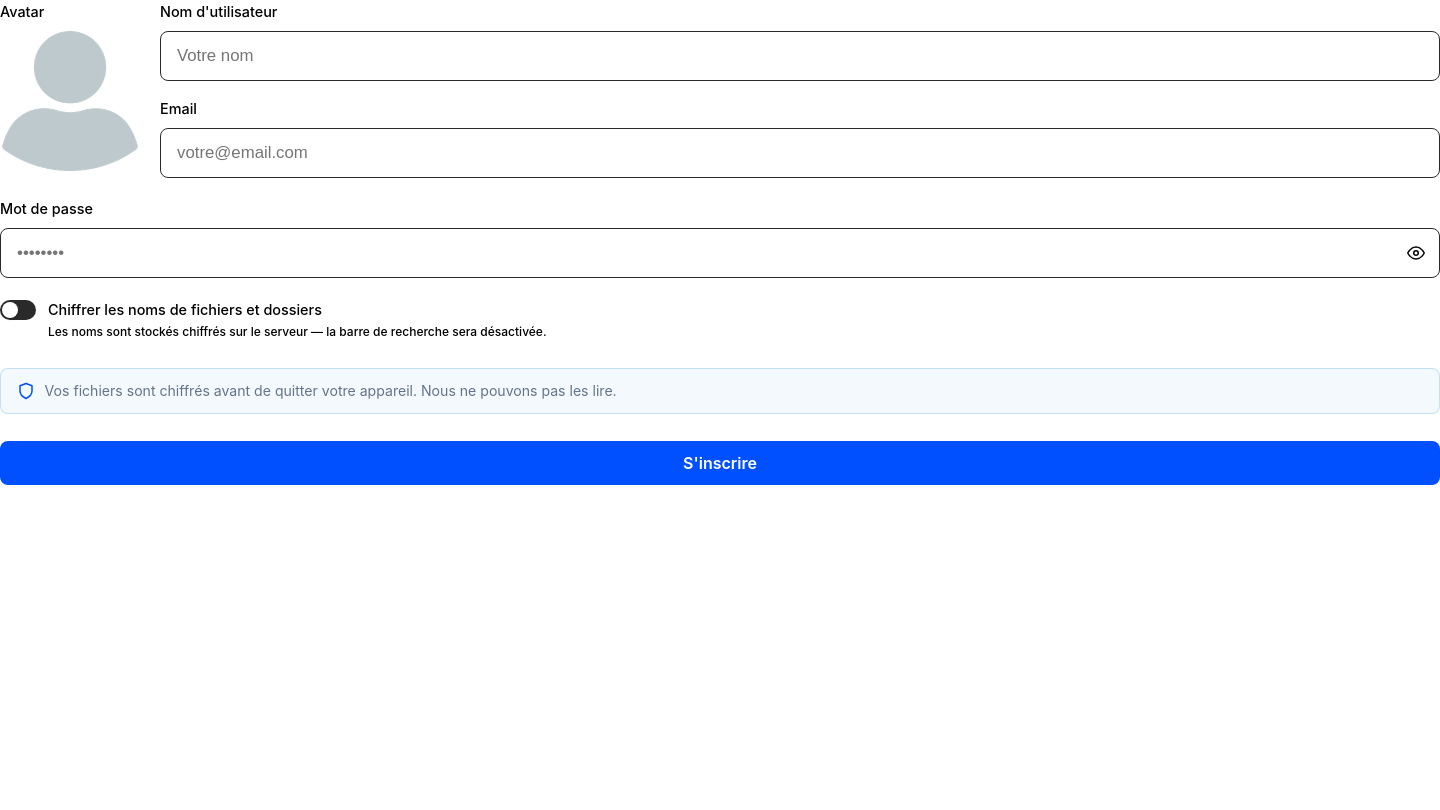
Test: registerComponent — recovery code display › checkbox with correct id and label exists
This screenshot has width=1440, height=810.
Type "TestUser" into the field with placeholder "Votre nom" at (800, 56), box [160,31,1439,81]
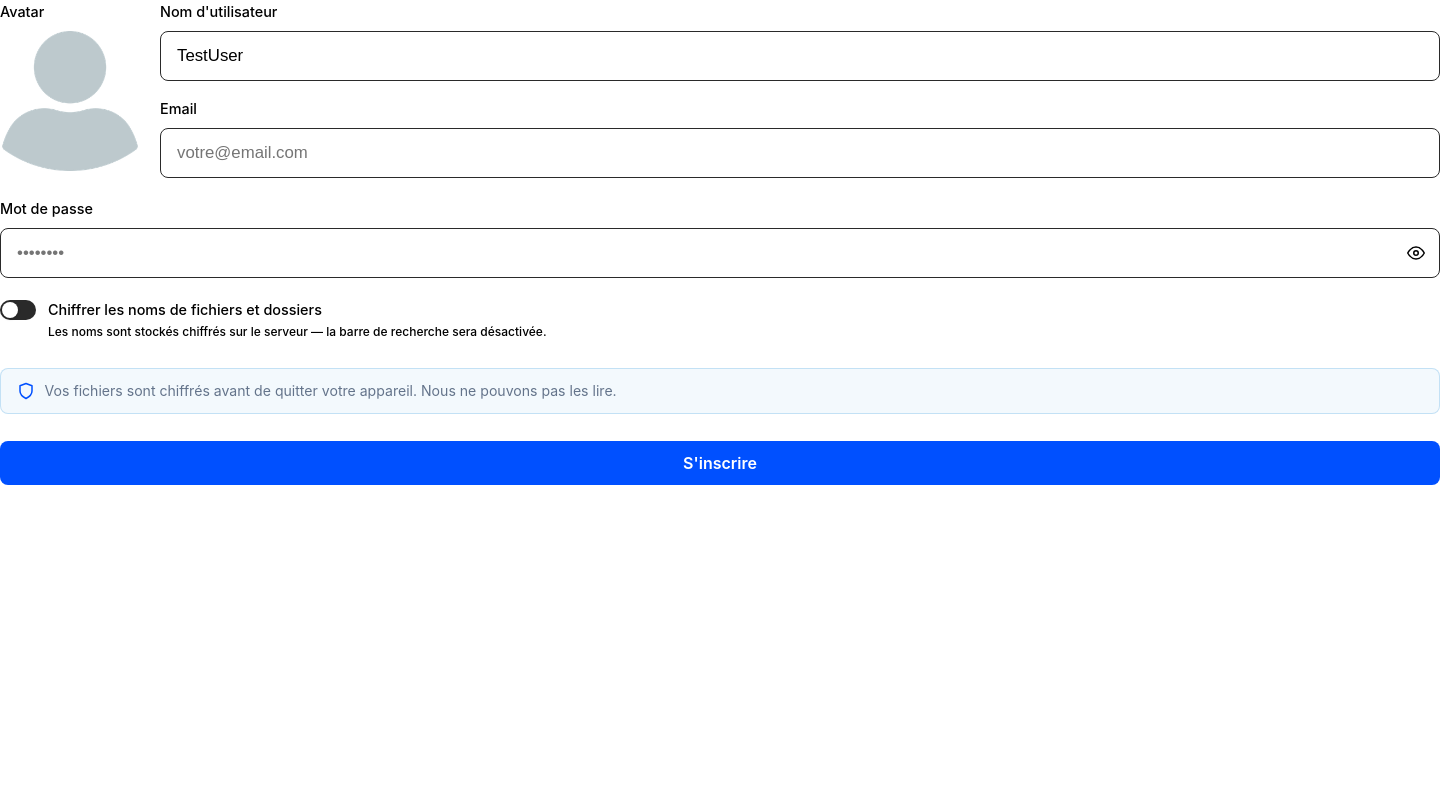
Type "user@example.com" into the field with placeholder "votre@email.com" at (800, 153), box [160,128,1439,178]
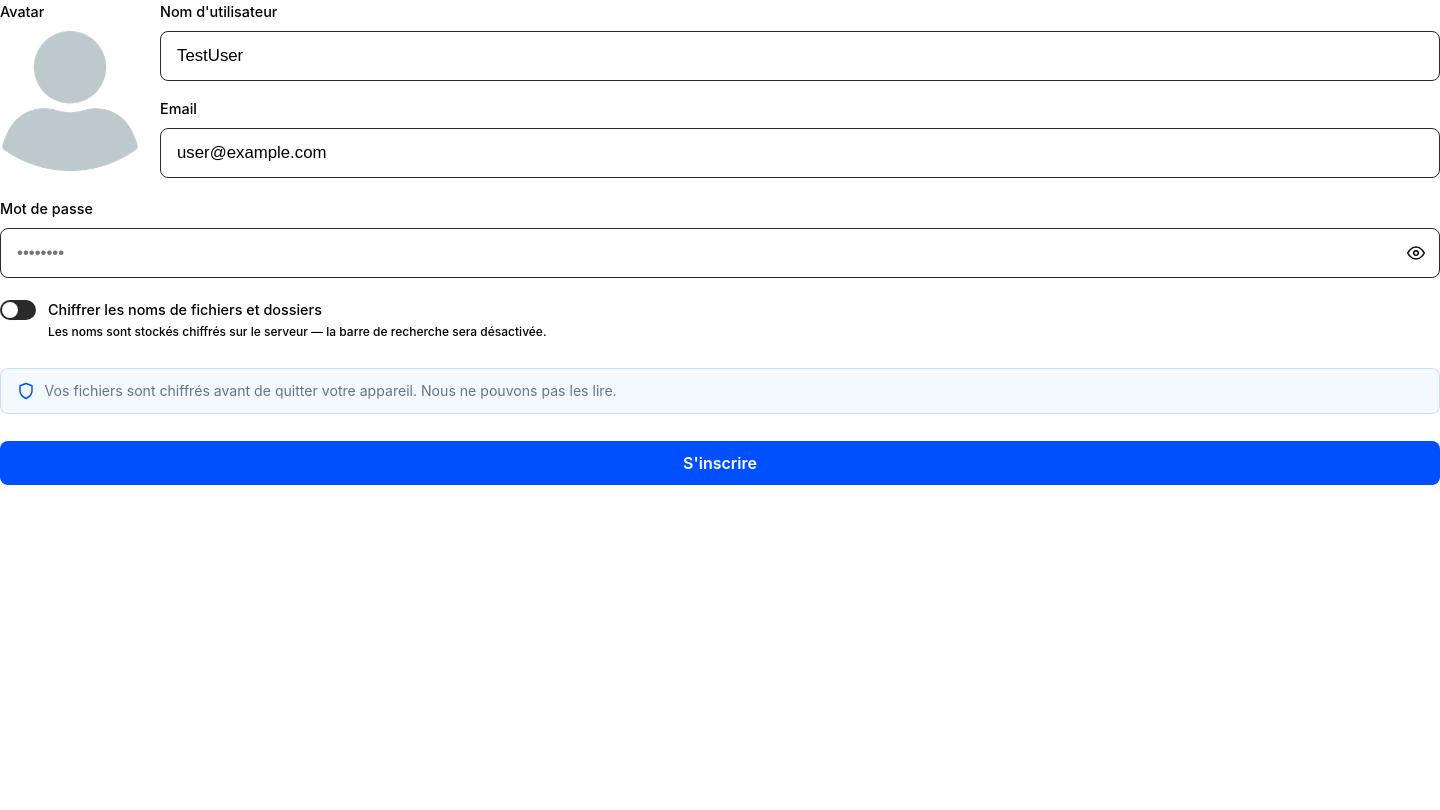
Type "Abcdefghijklmnopqrst1!" into the password field with placeholder "••••••••" at (720, 253), box [0,228,1439,278]
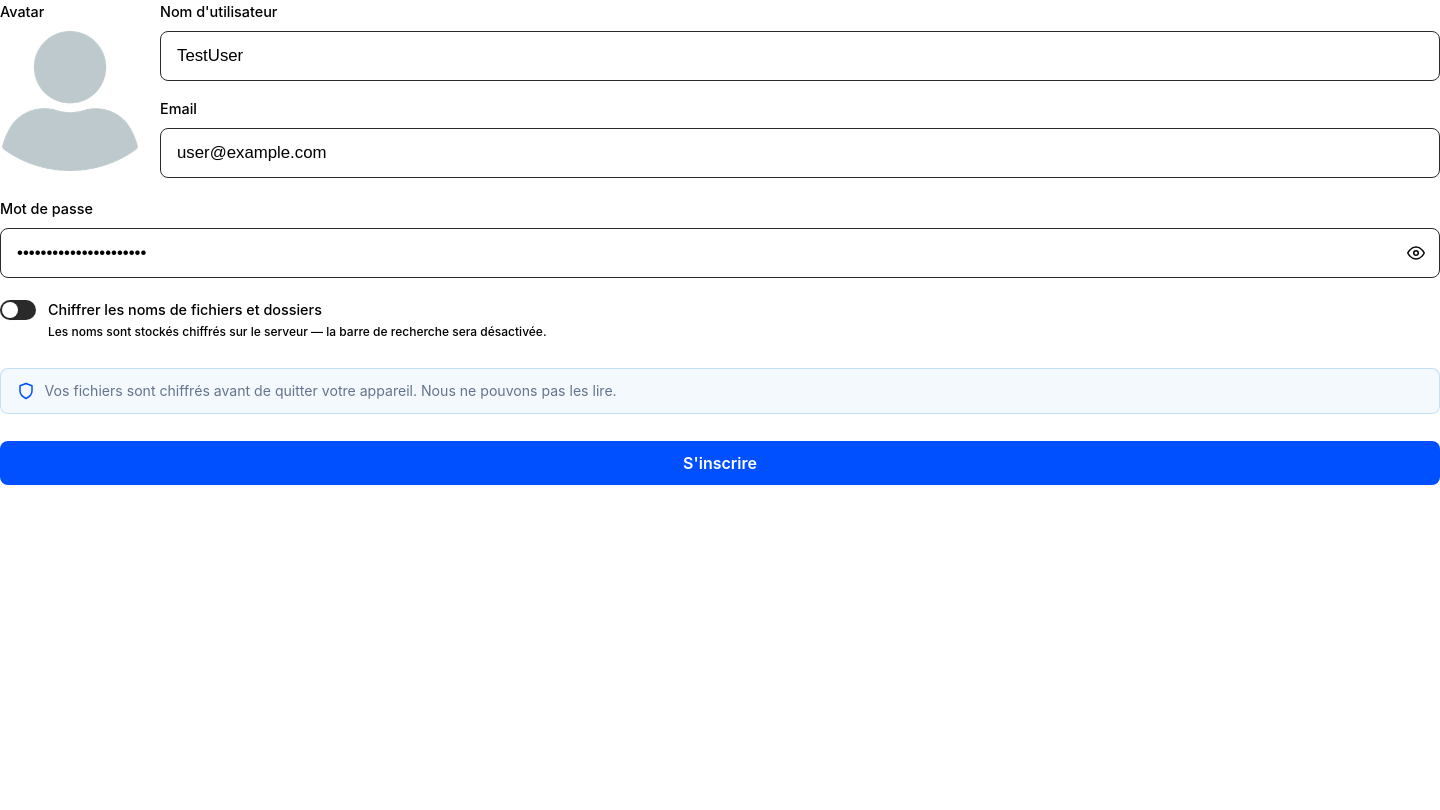
Submit the form, box [0,0,1439,485]
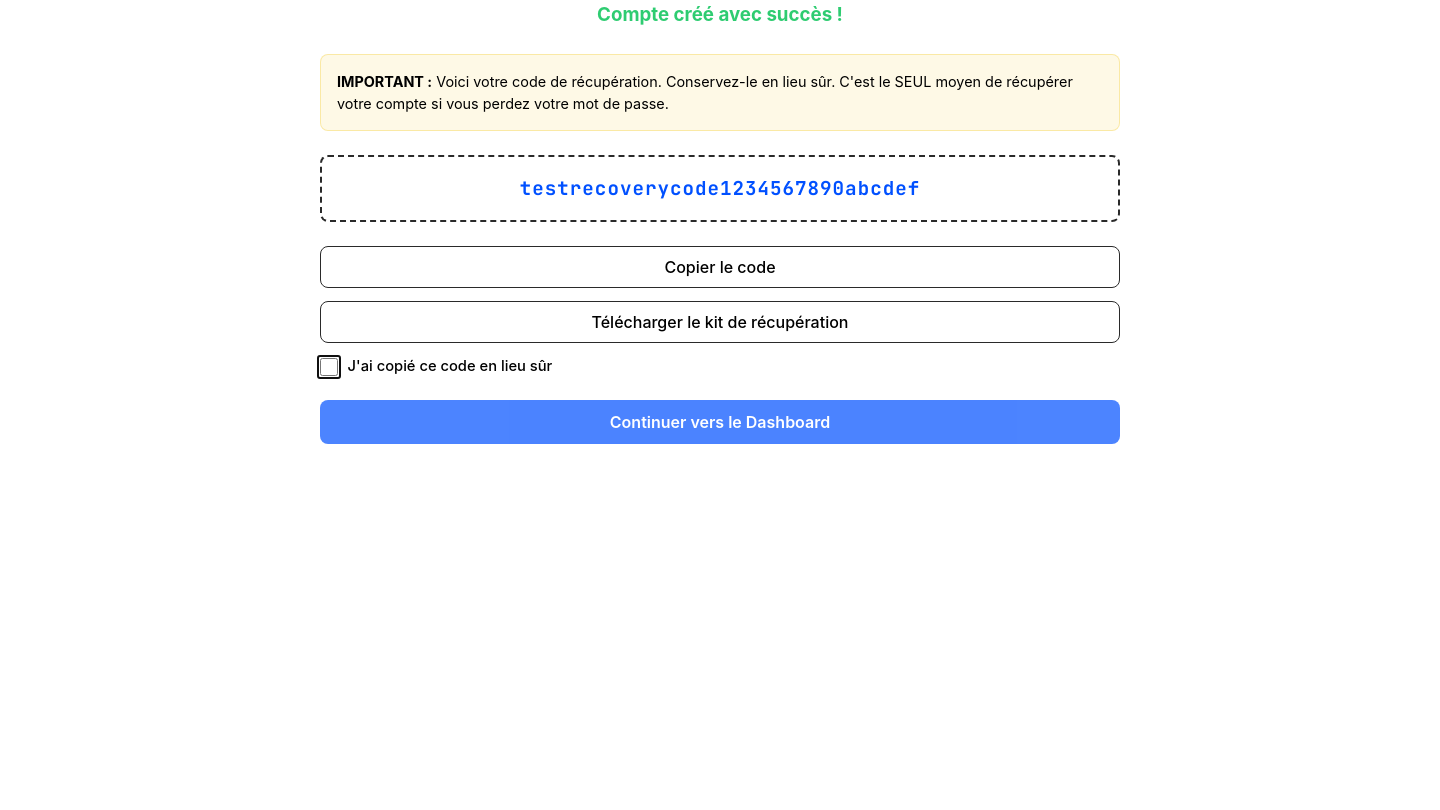
Expected: the checkbox with id "copied-checkbox" is shown, [320,358,338,376]
Expected: the label "J'ai copié ce code en lieu sûr" is shown, [348,356,552,379]
